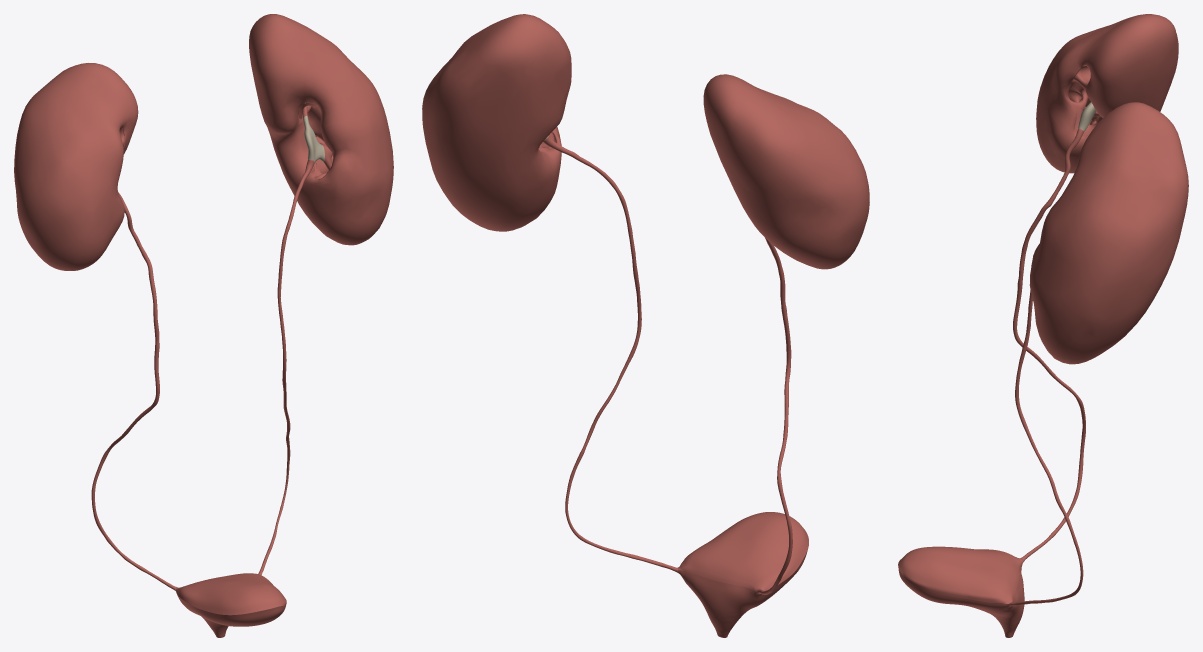
The model's file is adult_female.urinary.LOD0.glb.
3 views of the same model, side by side, from view 1: azimuth 30°, elevation 25°; view 2: azimuth 150°, elevation 25°; view 3: azimuth 270°, elevation 25° (orthographic). The views are drawn at different scales.
Visible parts, largest first — view 1: ADULT.FEMALE.URINARY.KIDNEY_CAPSULE.L, ADULT.FEMALE.URINARY.KIDNEY_CAPSULE.R, ADULT.FEMALE.URINARY.FUNDUS_OF_URINARY_BLADDER_DOME, ADULT.FEMALE.URINARY.URETER.R, ADULT.FEMALE.URINARY.URETER.L, ADULT.FEMALE.URINARY.FUNDUS_OF_URINARY_BLADDER_BASE, ADULT.FEMALE.URINARY.HILUM_OF_KIDNEY.L, ADULT.FEMALE.URINARY.RENAL_PELVIS.L; view 2: ADULT.FEMALE.URINARY.KIDNEY_CAPSULE.L, ADULT.FEMALE.URINARY.KIDNEY_CAPSULE.R, ADULT.FEMALE.URINARY.FUNDUS_OF_URINARY_BLADDER_DOME, ADULT.FEMALE.URINARY.FUNDUS_OF_URINARY_BLADDER_BASE, ADULT.FEMALE.URINARY.URETER.L, ADULT.FEMALE.URINARY.URETER.R; view 3: ADULT.FEMALE.URINARY.KIDNEY_CAPSULE.L, ADULT.FEMALE.URINARY.KIDNEY_CAPSULE.R, ADULT.FEMALE.URINARY.FUNDUS_OF_URINARY_BLADDER_DOME, ADULT.FEMALE.URINARY.URETER.R, ADULT.FEMALE.URINARY.FUNDUS_OF_URINARY_BLADDER_BASE, ADULT.FEMALE.URINARY.URETER.L, ADULT.FEMALE.URINARY.HILUM_OF_KIDNEY.R.
Boxes of the visible parts, box(x1,y1,x2,y2) form: ADULT.FEMALE.URINARY.KIDNEY_CAPSULE.L: box(249, 14, 393, 245); ADULT.FEMALE.URINARY.KIDNEY_CAPSULE.R: box(14, 63, 138, 270); ADULT.FEMALE.URINARY.FUNDUS_OF_URINARY_BLADDER_DOME: box(175, 573, 286, 615); ADULT.FEMALE.URINARY.URETER.R: box(91, 192, 177, 590); ADULT.FEMALE.URINARY.URETER.L: box(258, 159, 314, 575); ADULT.FEMALE.URINARY.FUNDUS_OF_URINARY_BLADDER_BASE: box(177, 595, 285, 633); ADULT.FEMALE.URINARY.HILUM_OF_KIDNEY.L: box(299, 103, 333, 179); ADULT.FEMALE.URINARY.RENAL_PELVIS.L: box(303, 115, 324, 162); ADULT.FEMALE.URINARY.KIDNEY_CAPSULE.L: box(422, 14, 571, 231); ADULT.FEMALE.URINARY.KIDNEY_CAPSULE.R: box(703, 74, 869, 269); ADULT.FEMALE.URINARY.FUNDUS_OF_URINARY_BLADDER_DOME: box(677, 512, 808, 591); ADULT.FEMALE.URINARY.FUNDUS_OF_URINARY_BLADDER_BASE: box(677, 551, 807, 633); ADULT.FEMALE.URINARY.URETER.L: box(543, 135, 678, 572); ADULT.FEMALE.URINARY.URETER.R: box(757, 238, 792, 594); ADULT.FEMALE.URINARY.KIDNEY_CAPSULE.L: box(1029, 102, 1188, 364); ADULT.FEMALE.URINARY.KIDNEY_CAPSULE.R: box(1036, 14, 1178, 173); ADULT.FEMALE.URINARY.FUNDUS_OF_URINARY_BLADDER_DOME: box(898, 546, 1023, 603); ADULT.FEMALE.URINARY.URETER.R: box(1013, 128, 1085, 562); ADULT.FEMALE.URINARY.FUNDUS_OF_URINARY_BLADDER_BASE: box(898, 562, 1024, 632); ADULT.FEMALE.URINARY.URETER.L: box(1008, 290, 1083, 606); ADULT.FEMALE.URINARY.HILUM_OF_KIDNEY.R: box(1065, 65, 1101, 136).
Size of the model in its own units: 0.2219 by 0.3186 by 0.1418.
